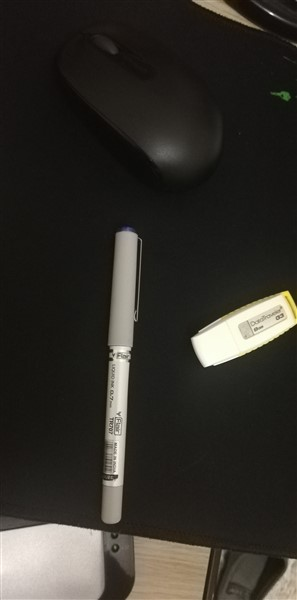flash disk: (187, 284, 297, 378)
mouse: (52, 12, 234, 193)
pilot kalem: (90, 220, 144, 530)
